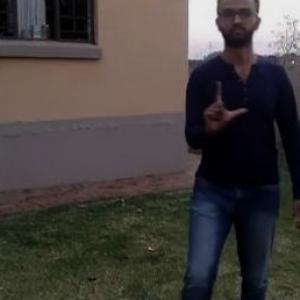land_hand: (194, 74, 250, 141)
